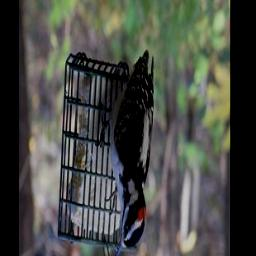Woodpecker: (97, 49, 154, 256)
